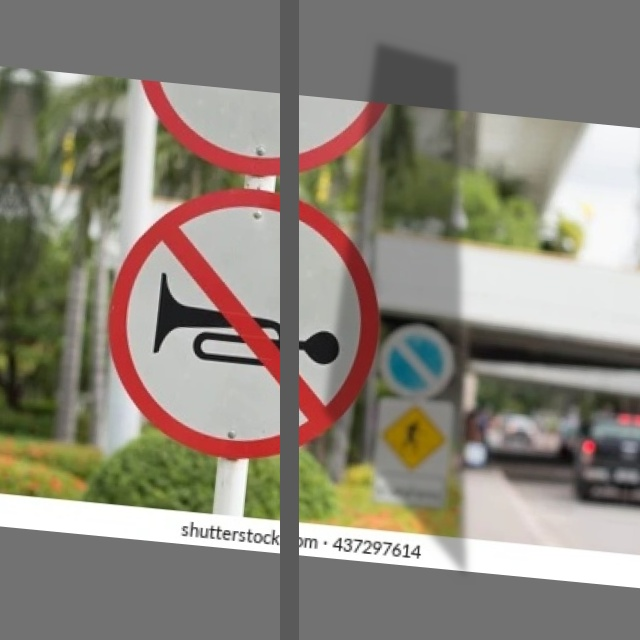Horn_Prohibited: (95, 178, 392, 468)
